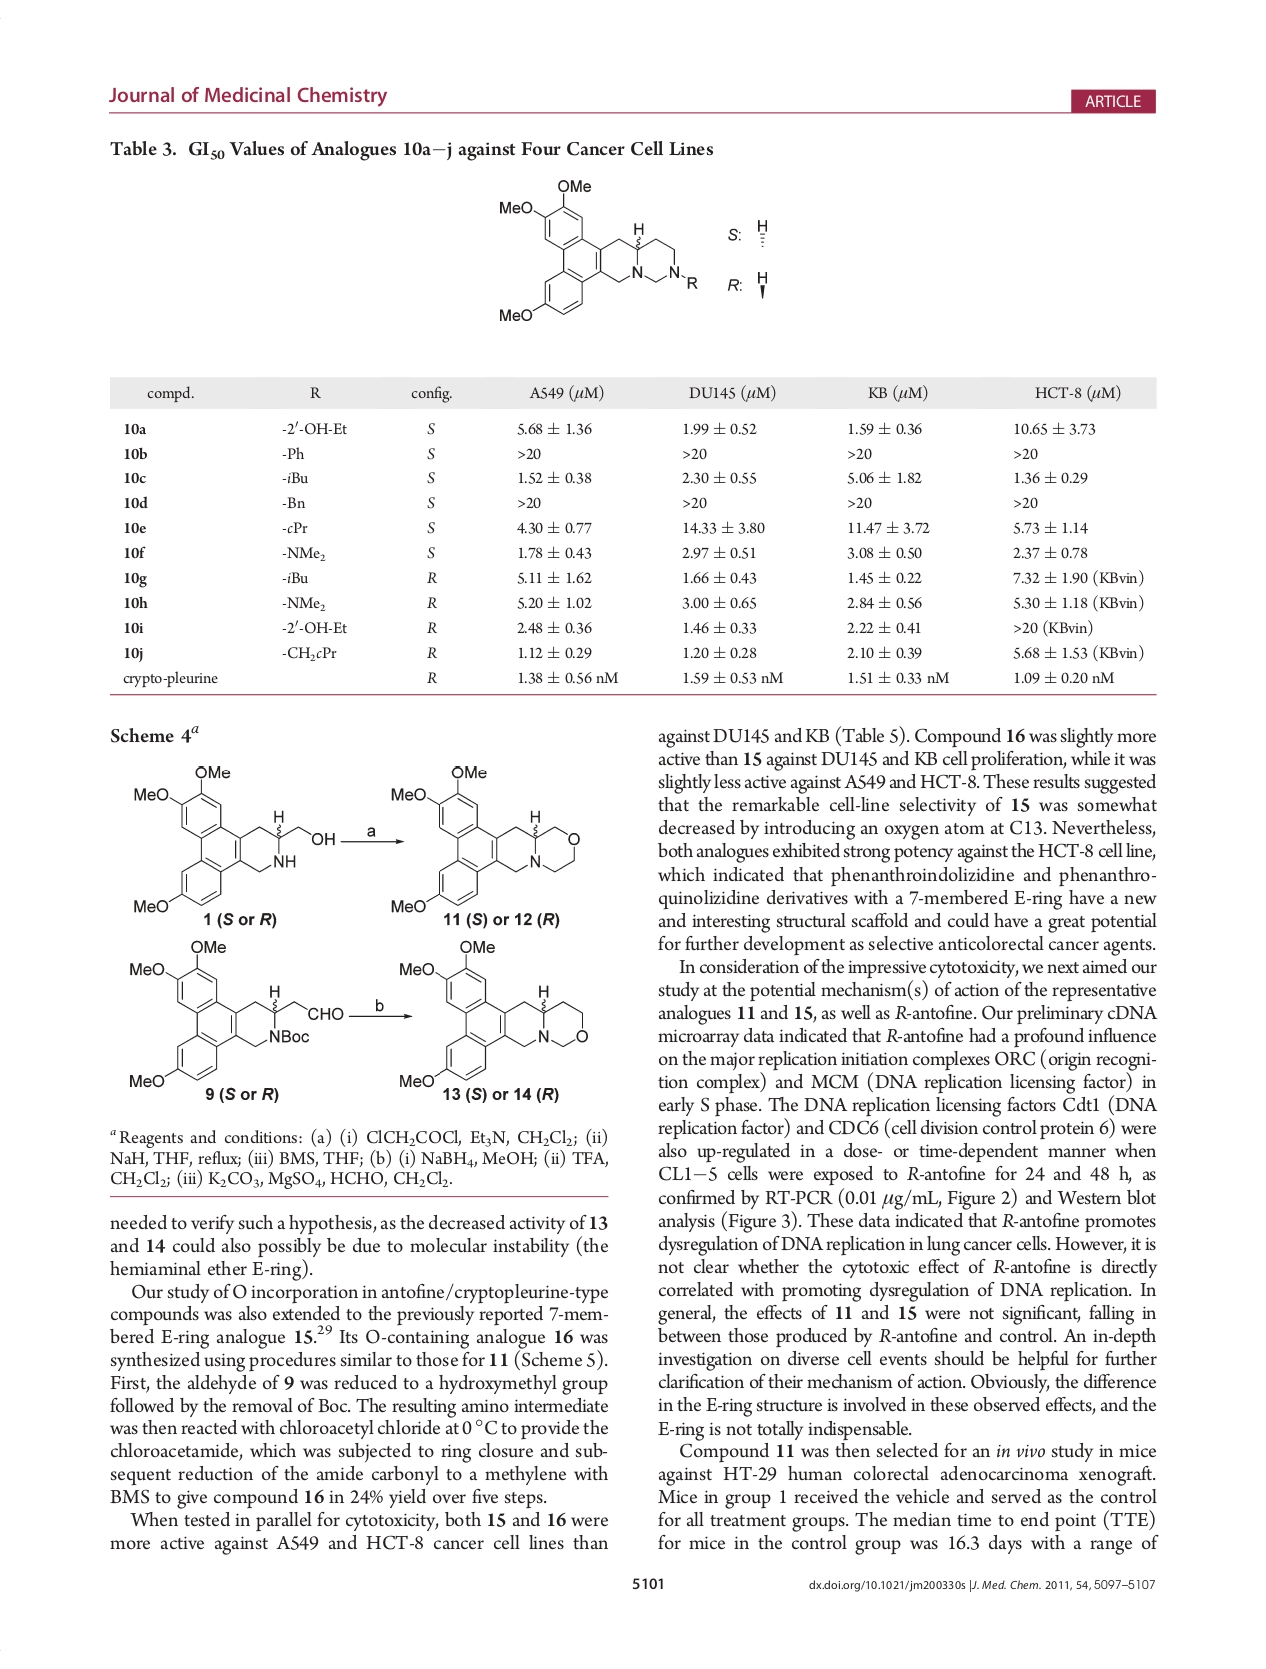exist_molecular: (125, 936, 344, 1089), (132, 762, 338, 915), (495, 174, 701, 324), (388, 762, 586, 914), (398, 938, 593, 1089)
